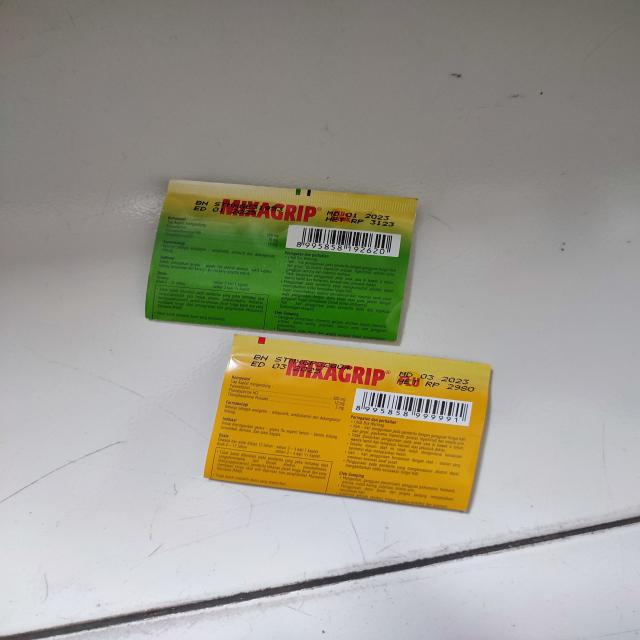B3: (199, 331, 491, 514), (143, 180, 419, 345)
